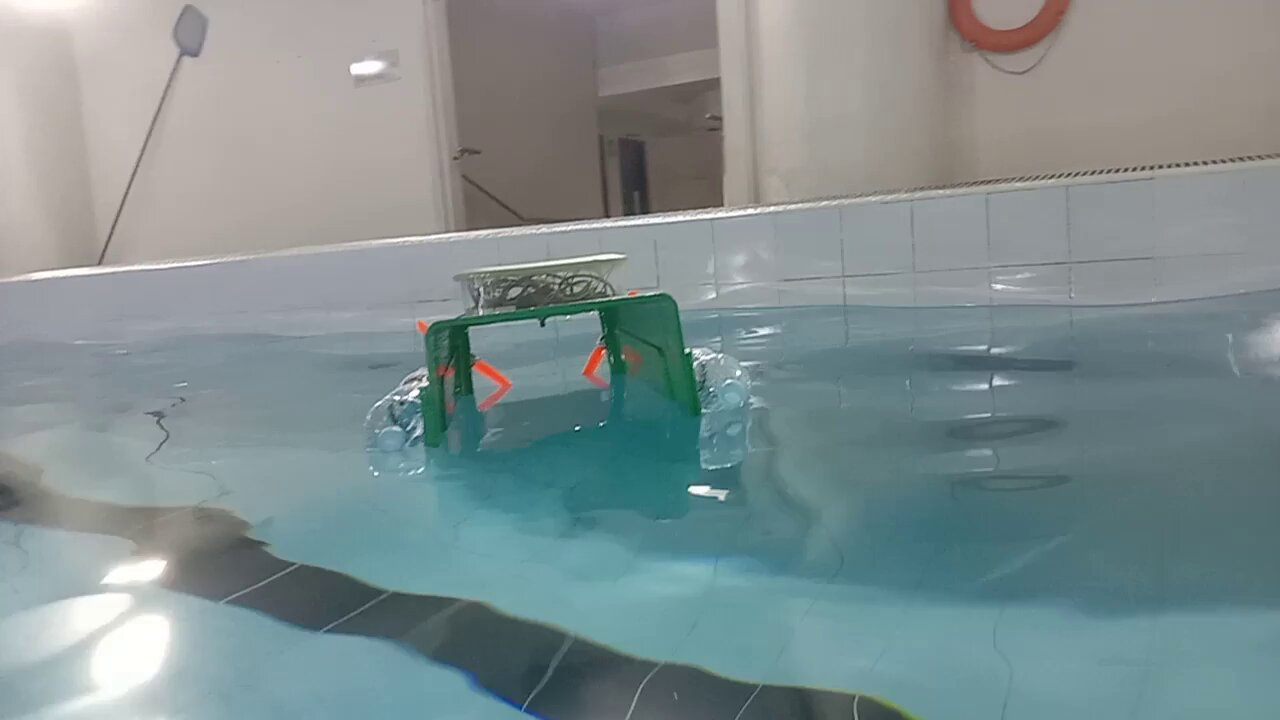drone: (358, 247, 753, 474)
